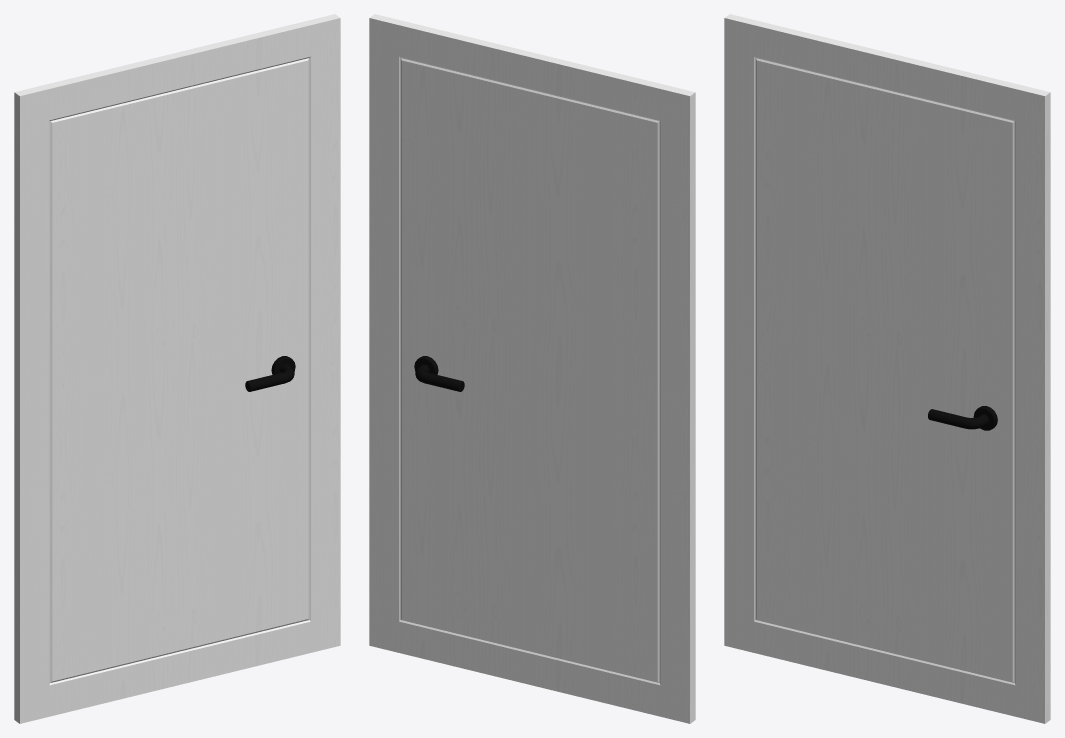
Rendered from Door.fbx.
3 renders of one model, left to right at view 1: azimuth 30°, elevation 25°; view 2: azimuth 150°, elevation 25°; view 3: azimuth 330°, elevation 25°, orthographic.
Parts seen in each view (by area): view 1: Door, DoorHandle; view 2: Door, DoorHandle; view 3: Door, DoorHandle.
Boxes of the visible parts, left/top/right/bottom form: Door: left=14, top=14, right=340, bottom=723; DoorHandle: left=245, top=356, right=295, bottom=391; Door: left=369, top=14, right=695, bottom=723; DoorHandle: left=414, top=356, right=464, bottom=391; Door: left=724, top=14, right=1050, bottom=723; DoorHandle: left=928, top=406, right=997, bottom=430.
Size of the model in its own units: 408 by 763 by 72.7.
